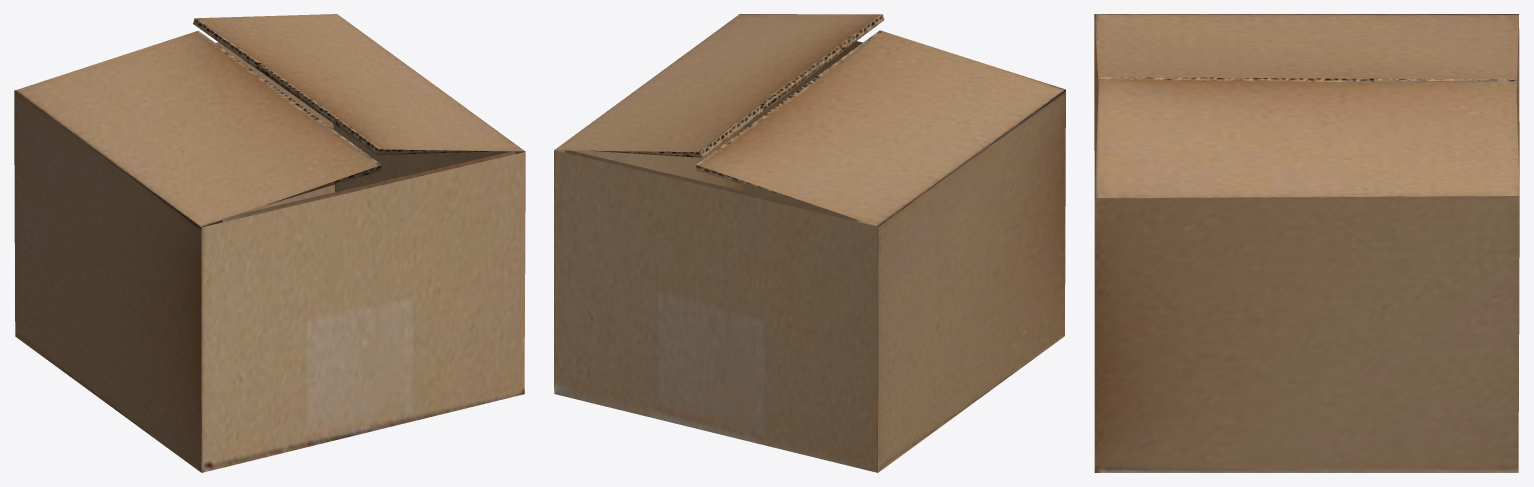
Rendered from caixa_papelao.FBX.
3 renders of one model, left to right at view 1: azimuth 30°, elevation 25°; view 2: azimuth 150°, elevation 25°; view 3: azimuth 270°, elevation 25°, orthographic. The views are drawn at different scales.
Parts seen in each view (by area): view 1: Box001, tampa1; view 2: Box001, tampa1; view 3: Box001, tampa1.
Part boxes in pixels (x1,y1,x2,y2): Box001: [14, 30, 525, 472]; tampa1: [193, 14, 524, 154]; Box001: [554, 30, 1065, 472]; tampa1: [554, 14, 884, 157]; Box001: [1094, 14, 1519, 472]; tampa1: [1094, 77, 1519, 198].
Bounding box in the file's own units: 30.78 × 25.19 × 30.7.
1 material, 1 textured.
